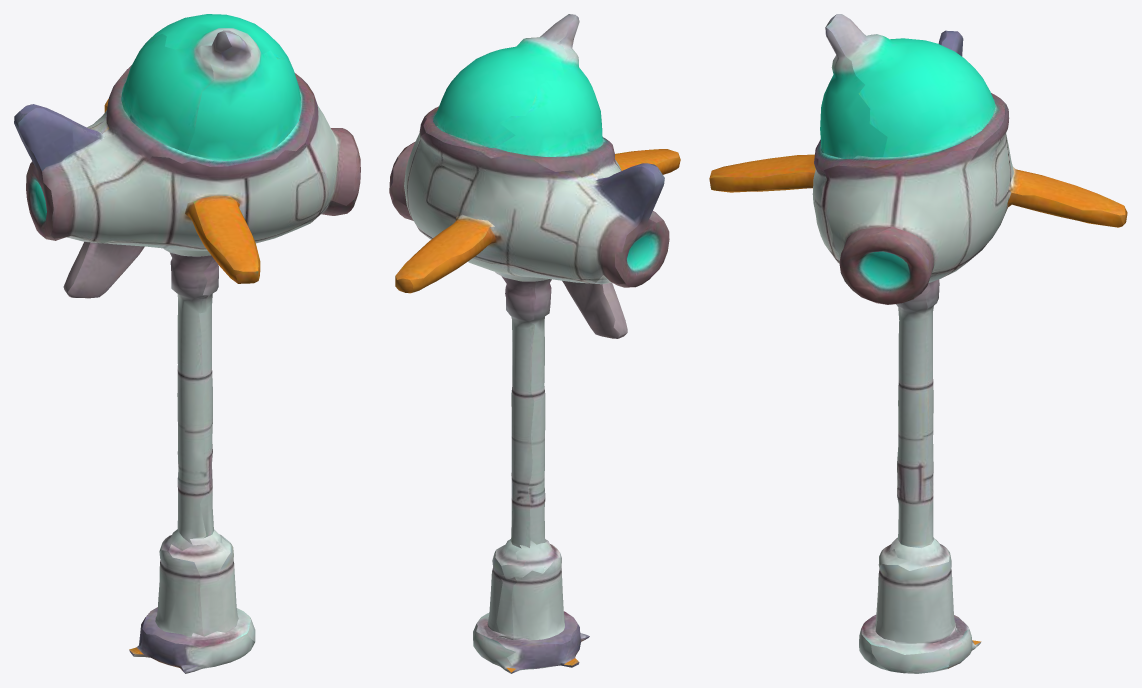
File: colony_lamp.glb
The picture shows the model from 3 angles, left to right: view 1: azimuth 30°, elevation 25°; view 2: azimuth 150°, elevation 25°; view 3: azimuth 270°, elevation 25°; orthographic projection. The views are drawn at different scales.
Parts seen in each view (by area): view 1: colony_lamp_s41; view 2: colony_lamp_s41; view 3: colony_lamp_s41.
Part boxes in pixels (x1,y1,x2,y2): colony_lamp_s41: [14, 14, 360, 673]; colony_lamp_s41: [389, 14, 680, 673]; colony_lamp_s41: [709, 14, 1127, 673].
Size of the model in its own units: 0.4944 by 1 by 0.5988.
Materials: 1 (1 with a texture image).
